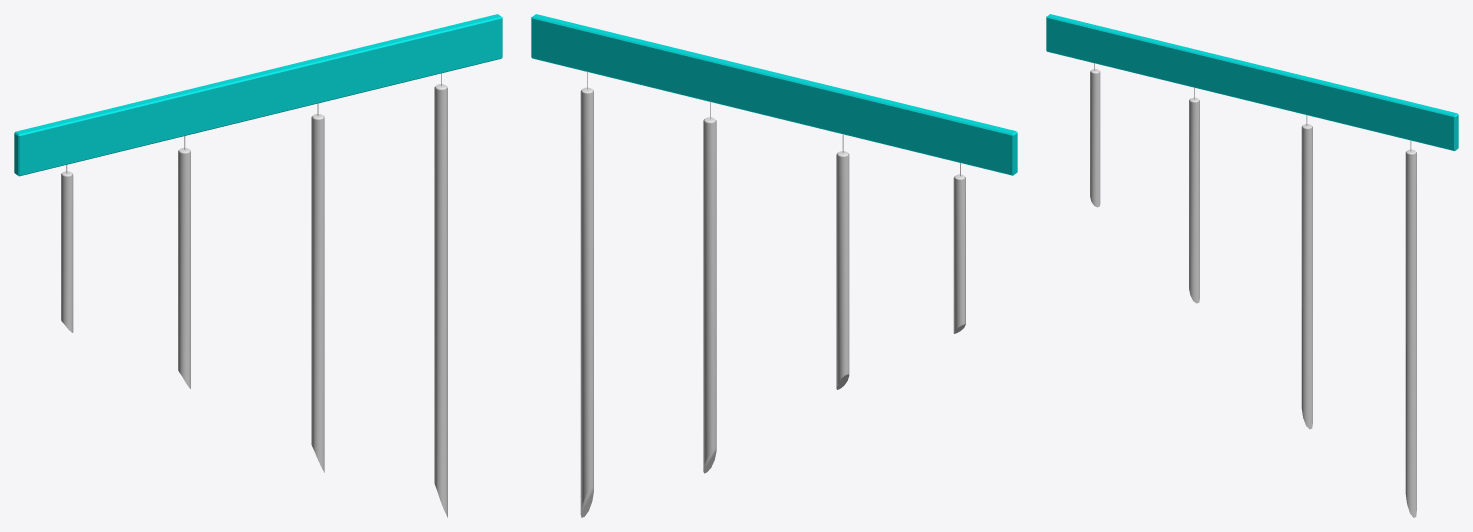
File: Chimes.fbx
The picture shows the model from 3 angles, left to right: view 1: azimuth 30°, elevation 25°; view 2: azimuth 150°, elevation 25°; view 3: azimuth 330°, elevation 25°; orthographic projection. The views are drawn at different scales.
Parts seen in each view (by area): view 1: Chime_Holder, Chime_4, Chime_3, Chime_2, Chime_1; view 2: Chime_Holder, Chime_4, Chime_3, Chime_2, Chime_1; view 3: Chime_Holder, Chime_4, Chime_3, Chime_2, Chime_1.
Boxes of the visible parts, x1,y1,x2,y2 form: Chime_Holder: (14, 14, 502, 176); Chime_4: (434, 84, 447, 517); Chime_3: (311, 113, 324, 472); Chime_2: (178, 147, 190, 388); Chime_1: (61, 171, 73, 332); Chime_Holder: (531, 14, 1017, 175); Chime_4: (580, 87, 593, 517); Chime_3: (703, 117, 716, 473); Chime_2: (836, 151, 849, 389); Chime_1: (953, 174, 965, 333); Chime_Holder: (1046, 14, 1458, 150); Chime_4: (1405, 149, 1416, 517); Chime_3: (1301, 124, 1312, 429); Chime_2: (1189, 97, 1199, 303); Chime_1: (1090, 69, 1100, 207).
Size of the model in its own units: 120 by 116 by 3.58.
